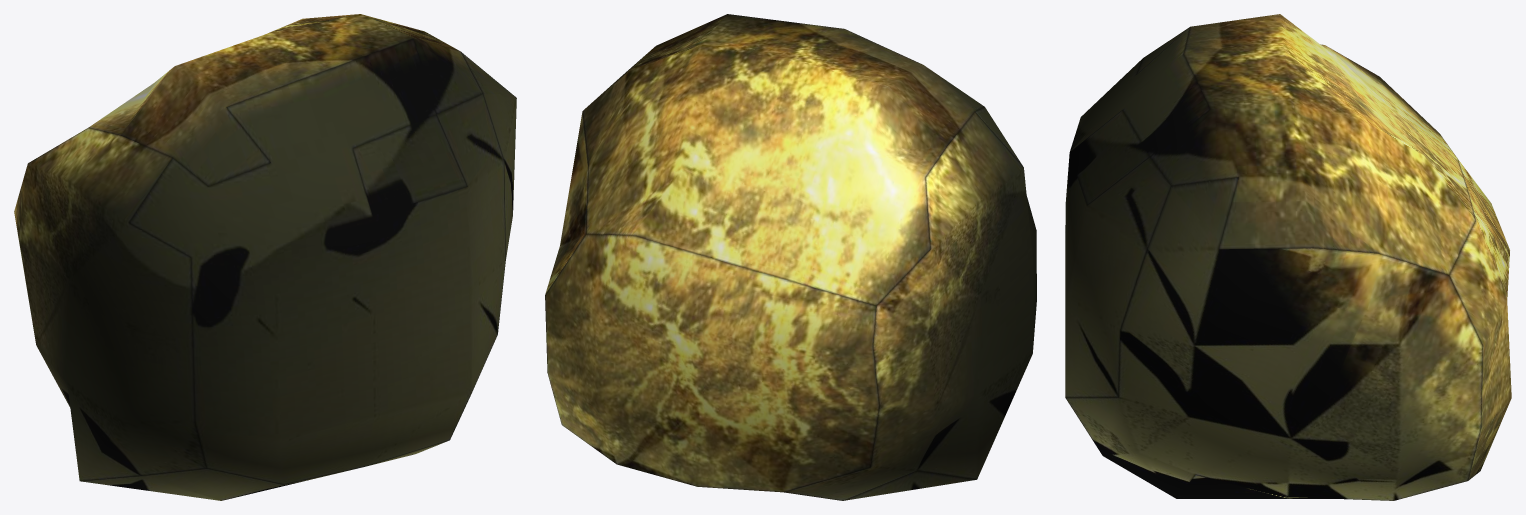
Rendered from Seccion14A.obj.
3 renders of one model, left to right at view 1: azimuth 30°, elevation 25°; view 2: azimuth 150°, elevation 25°; view 3: azimuth 270°, elevation 25°, orthographic. The views are drawn at different scales.
Parts seen in each view (by area): view 1: Gold; view 2: Gold; view 3: Gold.
Part boxes in pixels (box(x1,y1,x2,y2)): Gold: box(14, 14, 516, 500); Gold: box(545, 14, 1036, 500); Gold: box(1065, 14, 1511, 500).
Bounding box in the file's own units: 0.845 × 0.7871 × 0.7934.
Materials: 1 (1 with a texture image).
